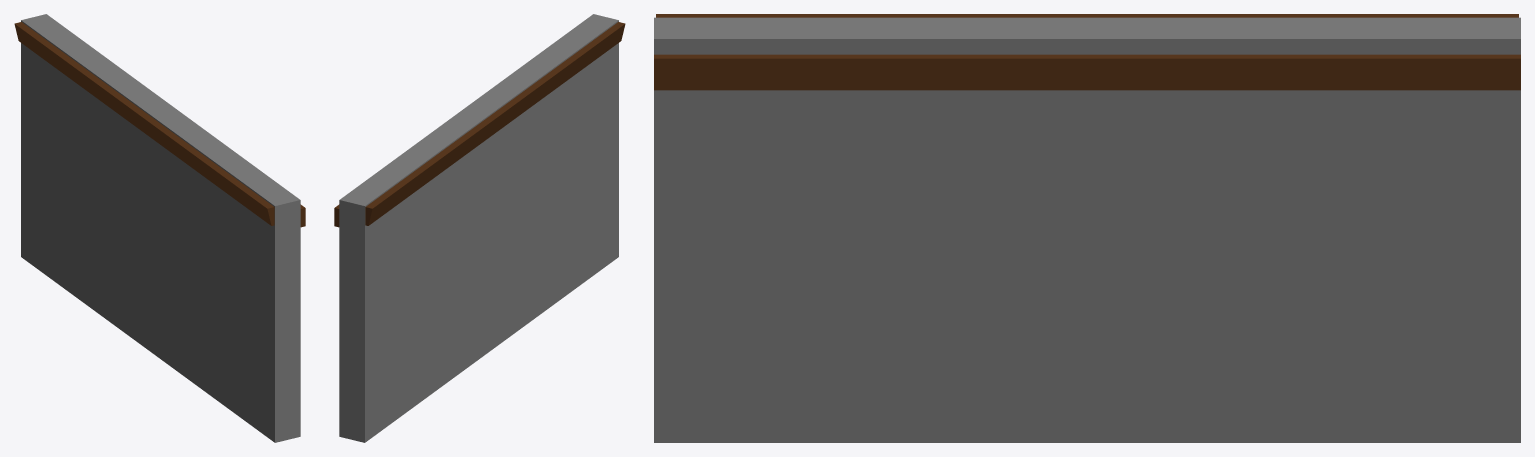
The model's file is WallShort.fbx.
3 renders of one model, left to right at view 1: azimuth 30°, elevation 25°; view 2: azimuth 150°, elevation 25°; view 3: azimuth 270°, elevation 25°, orthographic. The views are drawn at different scales.
Visible parts, largest first — view 1: WallBaseShorter; view 2: WallBaseShorter; view 3: WallBaseShorter.
Part boxes in pixels (box(x1,y1,x2,y2)): WallBaseShorter: box(14, 14, 305, 442); WallBaseShorter: box(334, 14, 625, 442); WallBaseShorter: box(654, 14, 1520, 442).
Size of the model in its own units: 1.38 by 8.33 by 16.2.
